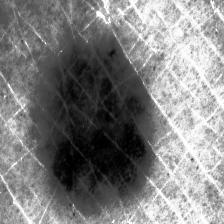Benign Marking or Mole: (41, 36, 154, 210)
